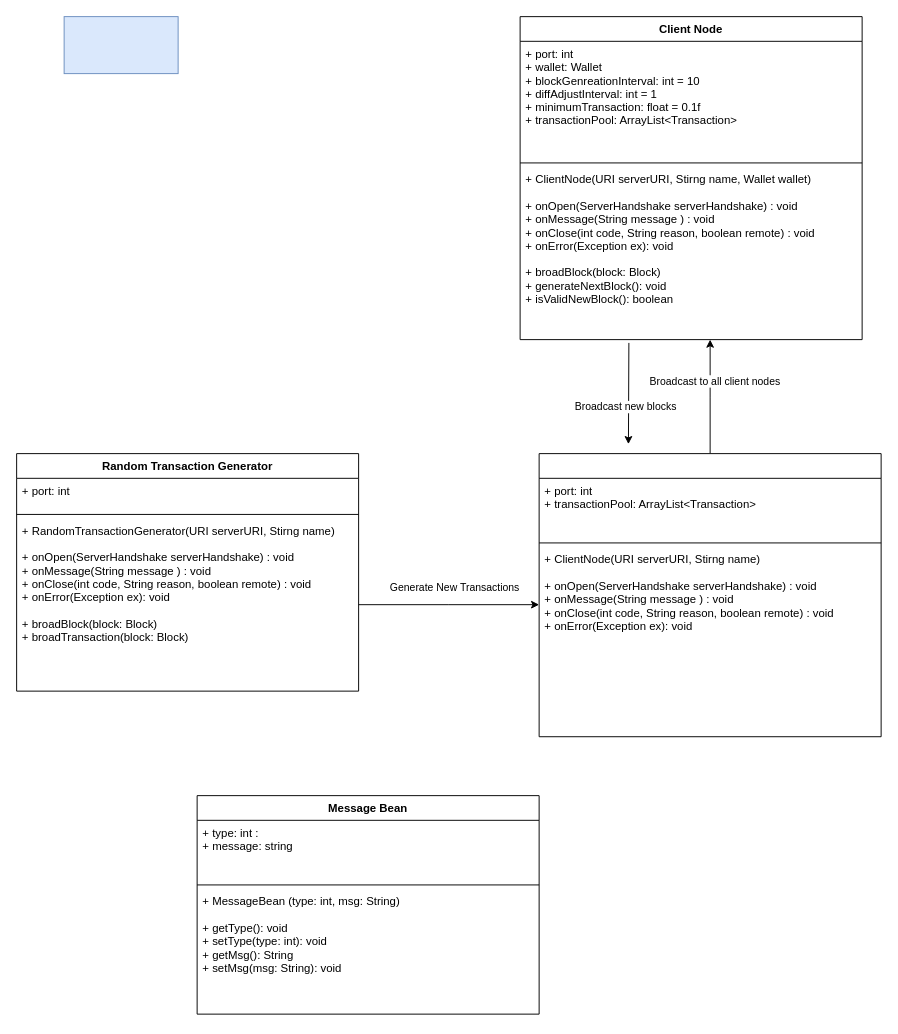
The diagram is 898 pixels wide and 1034 high, and some of its shapes have lost their labels. Each missing label, with the box of its shape:
Class Diagram: Networking: (63, 16, 178, 74)
Server Node: (538, 453, 881, 737)
